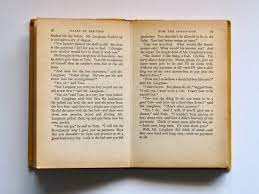Open Book: (33, 16, 234, 173)
